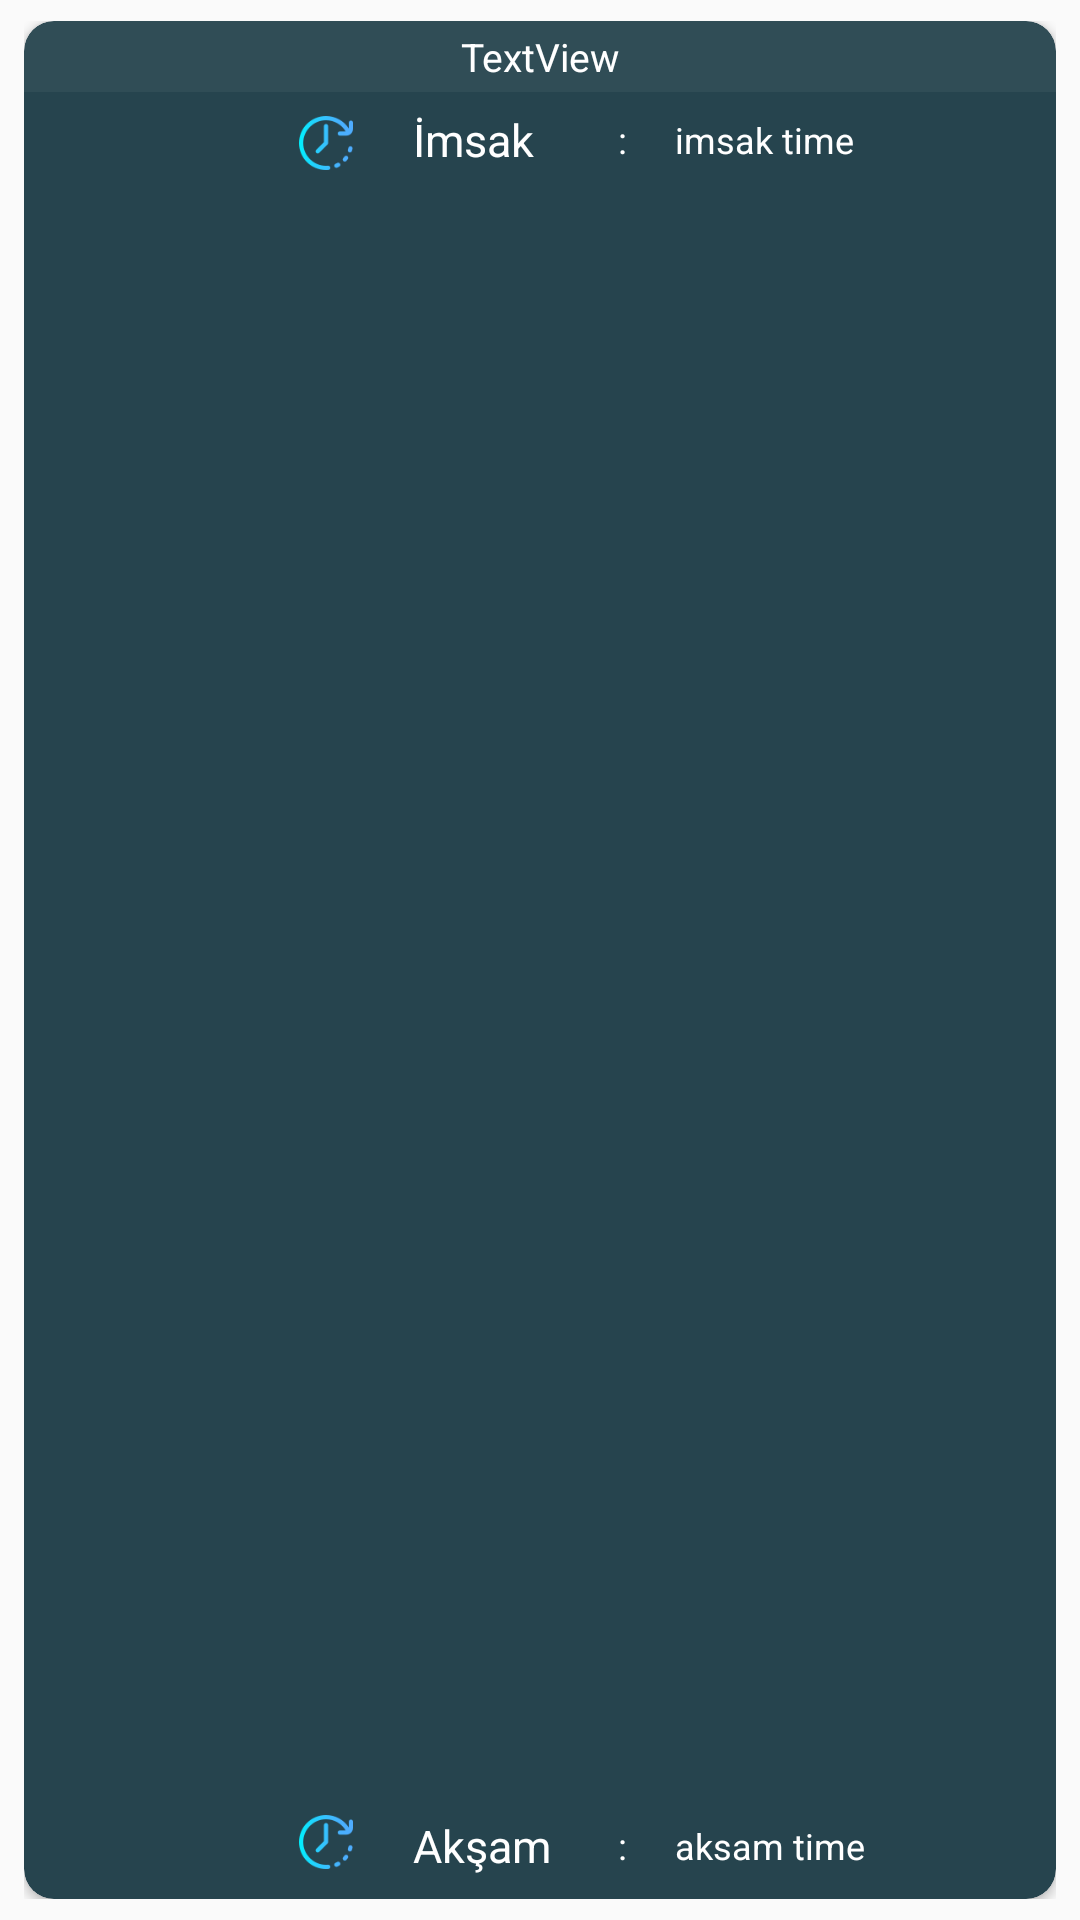

Icon bounding boxes for this 1080px x 1920px phone screenshot, format (x1, y1, x2, y2):
alarm: (299, 116, 353, 170), (299, 1815, 353, 1869)
